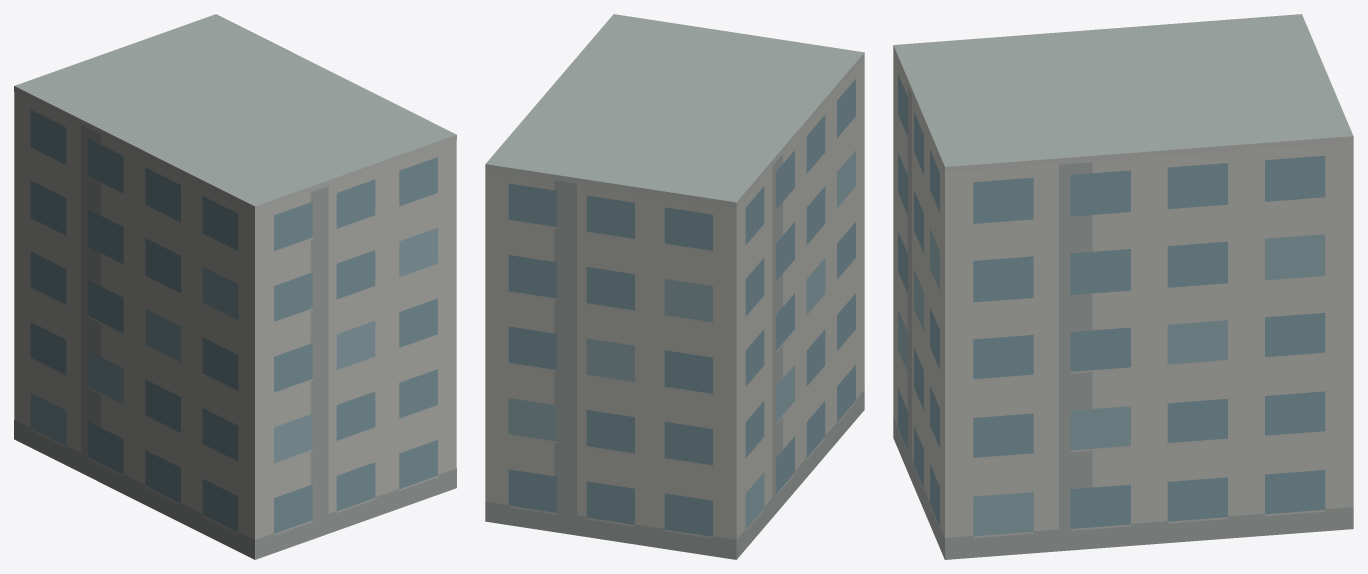
Rendered from residential-d226d393-229c-425b-93d2-4a903323b21b.glb.
3 renders of one model, left to right at view 1: azimuth 30°, elevation 25°; view 2: azimuth 150°, elevation 25°; view 3: azimuth 270°, elevation 25°, orthographic. The views are drawn at different scales.
Parts seen in each view (by area): view 1: residential-d226d393-229c-425b-93d2-4a903323b21b.tmp; view 2: residential-d226d393-229c-425b-93d2-4a903323b21b.tmp; view 3: residential-d226d393-229c-425b-93d2-4a903323b21b.tmp.
Boxes of the visible parts, box(x1,y1,x2,y2) form: residential-d226d393-229c-425b-93d2-4a903323b21b.tmp: box(14, 14, 456, 559); residential-d226d393-229c-425b-93d2-4a903323b21b.tmp: box(485, 14, 864, 559); residential-d226d393-229c-425b-93d2-4a903323b21b.tmp: box(893, 14, 1353, 559).
Bounding box in the file's own units: 12.75 × 15.25 × 16.2.
